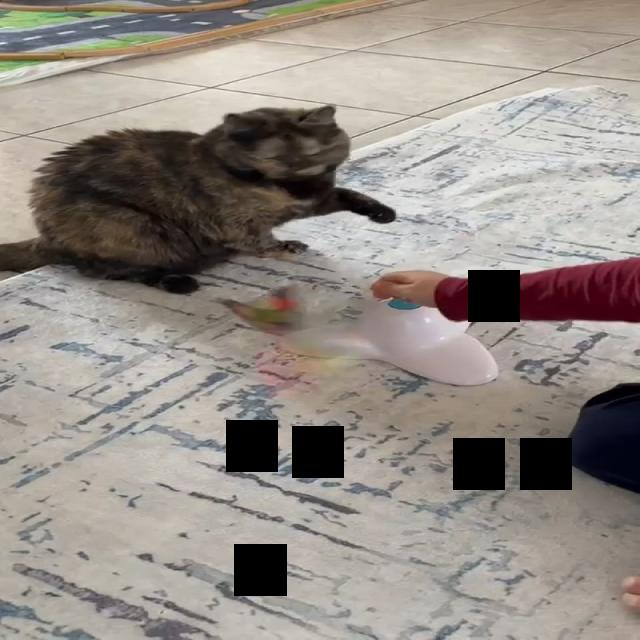authorized: (0, 103, 396, 295)
